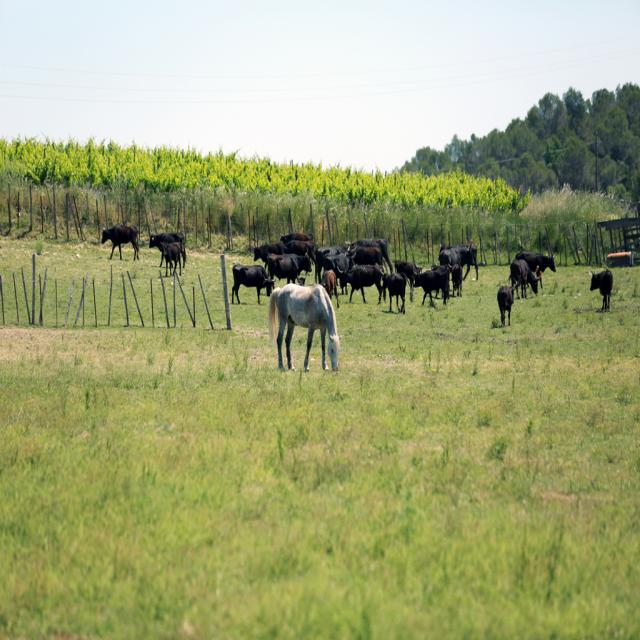Horse: (265, 281, 342, 374)
